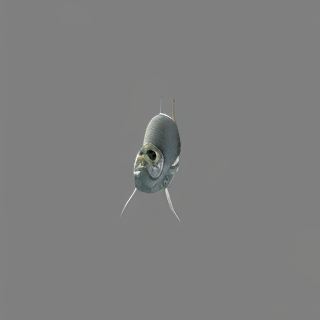Pecific herring: (119, 95, 184, 223)
